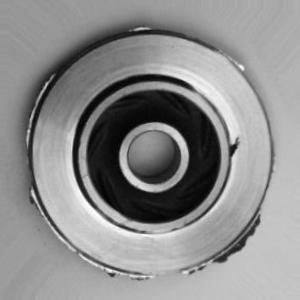casting_with_burr: (21, 25, 278, 283)
crack: (222, 130, 245, 172)
